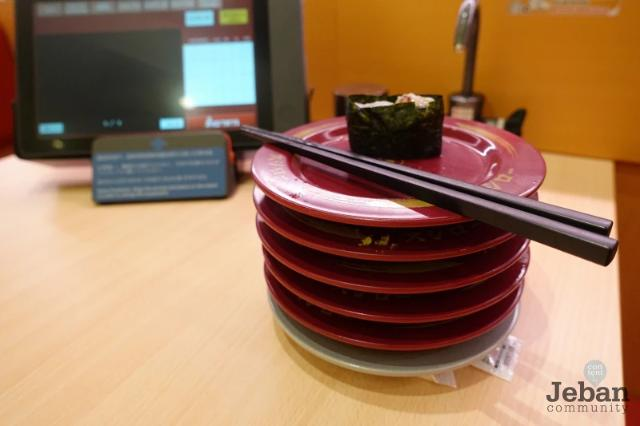janred: (251, 117, 548, 216), (256, 242, 496, 300), (267, 203, 506, 261), (270, 300, 492, 351), (303, 294, 501, 326)
janwhite: (288, 338, 520, 380)
